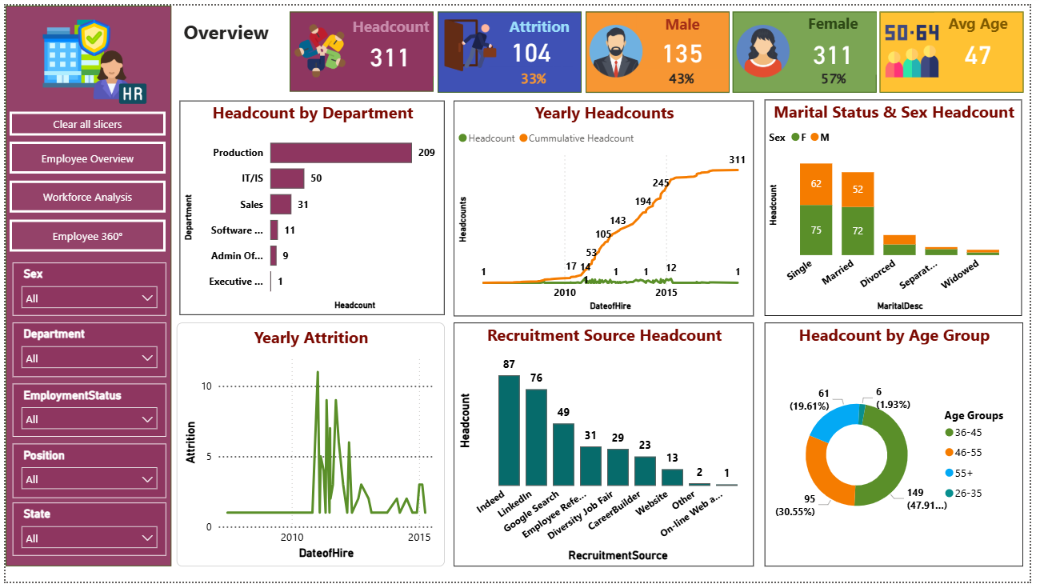

Layout of this report page (visuals, bound fields, positions):
{"tool":"powerbi","page":{"name":"Overview","canvas":[1280,720],"ordinal":1},"visuals":[{"type":"shape","box":[540,7.2,180,101.3],"z":0,"group":"g2"},{"type":"shape","box":[724.8,7.2,180,101.3],"z":0,"group":"g3"},{"type":"shape","box":[908.3,7.2,180,101.3],"z":0,"group":"g4"},{"type":"shape","box":[1093.1,7.2,180,101.3],"z":0,"group":"g5"},{"type":"shape","box":[355.2,7.3,180,100.1],"z":0,"group":"g1"},{"type":"image","box":[40,11.2,97.5,97.5],"z":0,"group":"g6"},{"type":"clusteredBarChart","fields":{"Category":["HR_Employees_Data.Department"],"Y":["All Measures.Headcount"]},"box":[216.9,119.2,331.4,268.2],"z":0},{"type":"card","title":"Female","fields":{"Values":["All Measures.Headcount"]},"box":[979.8,8.4,108.5,77.5],"z":1000,"group":"g4"},{"type":"card","title":"Avg Age","fields":{"Values":["All Measures.Avg Age"]},"box":[1162.2,8.4,108.5,77.5],"z":1000,"group":"g5"},{"type":"card","title":"Male","fields":{"Values":["All Measures.Male"]},"box":[788.3,9.2,114.4,70],"z":1000,"group":"g3"},{"type":"card","title":"Attrition","fields":{"Values":["All Measures.Attrition"]},"box":[603.2,12,106.1,64.4],"z":1000,"group":"g2"},{"type":"card","title":"Headcount","fields":{"Values":["All Measures.Headcount"]},"box":[426.7,12.1,108.5,76.3],"z":1000,"group":"g1"},{"type":"image","box":[103.8,46.2,78.8,86.2],"z":1000,"group":"g6"},{"type":"donutChart","title":"Headcount by Age Group","fields":{"Category":["HR_Employees_Data.AgeBucket"],"Y":["All Measures.Headcount"]},"box":[948.9,395.8,323,305.2],"z":1000},{"type":"image","box":[724.8,11.5,76.3,91.2],"z":2000,"group":"g3"},{"type":"image","box":[908.3,11.5,76.3,91.2],"z":2000,"group":"g4"},{"type":"image","box":[1095.5,11.5,76.3,91.2],"z":2000,"group":"g5"},{"type":"image","box":[355.2,11.6,76.3,90.1],"z":2000,"group":"g1"},{"type":"image","box":[543.3,12.4,74.8,75.1],"z":2000,"group":"g2"},{"type":"lineChart","title":"Yearly Headcounts","fields":{"Y":["All Measures.Headcount","All Measures.Cummulative Headcount"],"Category":["HR_Employees_Data.DateofHire"]},"box":[560.3,119.2,375.5,269.4],"z":2000},{"type":"clusteredColumnChart","title":"Recruitment Source Headcount","fields":{"Category":["HR_Employees_Data.RecruitmentSource"],"Y":["All Measures.Headcount"]},"box":[560.3,395.8,375.5,305.2],"z":3000},{"type":"columnChart","title":"Marital Status & Sex Headcount","fields":{"Y":["All Measures.Headcount"],"Category":["HR_Employees_Data.MaritalDesc"],"Series":["HR_Employees_Data.Sex"]},"box":[948.9,118,321.8,270.6],"z":4000},{"type":"lineChart","title":"Yearly Attrition","fields":{"Y":["All Measures.Attrition"],"Category":["HR_Employees_Data.DateofHire"]},"box":[213.4,395.8,335,305.2],"z":5000},{"type":"shape","box":[0,0,207.4,700.9],"z":6000},{"type":"slicer","fields":{"Values":["HR_Employees_Data.EmploymentStatus"]},"box":[8.3,472,191.9,66.8],"z":7000},{"type":"slicer","fields":{"Values":["HR_Employees_Data.Sex"]},"box":[8.3,320.7,191.9,66.8],"z":8000},{"type":"slicer","fields":{"Values":["HR_Employees_Data.Department"]},"box":[8.3,395.8,191.9,67.9],"z":9000},{"type":"slicer","fields":{"Values":["HR_Employees_Data.Position"]},"box":[8.3,547.1,191.9,67.9],"z":10000},{"type":"slicer","fields":{"Values":["HR_Employees_Data.State"]},"box":[8.3,621,191.9,66.8],"z":11000},{"type":"actionButton","box":[5,170,195,40],"z":12000},{"type":"actionButton","box":[5,218.8,195,40],"z":13000},{"type":"actionButton","box":[5,267.5,195,40],"z":14000},{"type":"textbox","box":[216.9,10.7,131.1,96.6],"z":15000},{"type":"group","id":"g1","title":"Group 1","box":[355.2,7.3,180,100.1],"z":16000},{"type":"group","id":"g2","title":"Group 1","box":[540,7.2,180,101.3],"z":17000},{"type":"group","id":"g3","title":"Group 1","box":[724.8,7.2,180,101.3],"z":18000},{"type":"group","id":"g4","title":"Group 1","box":[908.3,7.2,180,101.3],"z":19000},{"type":"group","id":"g5","title":"Group 1","box":[1093.1,7.2,180,101.3],"z":20000},{"type":"card","title":"Attrition","fields":{"Values":["All Measures.Attrition Rate"]},"box":[627,75.1,64.4,37],"z":21000},{"type":"card","title":"Attrition","fields":{"Values":["All Measures.Male %"]},"box":[813,75.1,64.4,37],"z":22000},{"type":"card","title":"Attrition","fields":{"Values":["All Measures.Female %"]},"box":[1002.5,75.1,64.4,37],"z":23000},{"type":"actionButton","box":[5,132.5,195,30],"z":24000},{"type":"group","id":"g6","title":"Group 2","box":[40,11.2,142.5,121.2],"z":25000}]}

Visuals, with their boxes in screenshot pixels (x1, y1, x2, y2), scaled from the page's 1280x720 canvas onto the 1040x587 screenshot:
shape: x1=439 y1=6 x2=585 y2=88
shape: x1=589 y1=6 x2=735 y2=88
shape: x1=738 y1=6 x2=884 y2=88
shape: x1=888 y1=6 x2=1034 y2=88
shape: x1=289 y1=6 x2=435 y2=88
image: x1=32 y1=9 x2=112 y2=89
clusteredBarChart - HR_Employees_Data.Department x All Measures.Headcount: x1=176 y1=97 x2=445 y2=316
"Female" card: x1=796 y1=7 x2=884 y2=70
"Avg Age" card: x1=944 y1=7 x2=1032 y2=70
"Male" card: x1=640 y1=8 x2=733 y2=65
"Attrition" card: x1=490 y1=10 x2=576 y2=62
"Headcount" card: x1=347 y1=10 x2=435 y2=72
image: x1=84 y1=38 x2=148 y2=108
"Headcount by Age Group" donutChart: x1=771 y1=323 x2=1033 y2=572
image: x1=589 y1=9 x2=651 y2=84
image: x1=738 y1=9 x2=800 y2=84
image: x1=890 y1=9 x2=952 y2=84
image: x1=289 y1=9 x2=351 y2=83
image: x1=441 y1=10 x2=502 y2=71
"Yearly Headcounts" lineChart: x1=455 y1=97 x2=760 y2=317
"Recruitment Source Headcount" clusteredColumnChart: x1=455 y1=323 x2=760 y2=572
"Marital Status & Sex Headcount" columnChart: x1=771 y1=96 x2=1032 y2=317
"Yearly Attrition" lineChart: x1=173 y1=323 x2=446 y2=572
shape: x1=0 y1=0 x2=169 y2=571
slicer - HR_Employees_Data.EmploymentStatus: x1=7 y1=385 x2=163 y2=439
slicer - HR_Employees_Data.Sex: x1=7 y1=261 x2=163 y2=316
slicer - HR_Employees_Data.Department: x1=7 y1=323 x2=163 y2=378
slicer - HR_Employees_Data.Position: x1=7 y1=446 x2=163 y2=501
slicer - HR_Employees_Data.State: x1=7 y1=506 x2=163 y2=561
actionButton: x1=4 y1=139 x2=162 y2=171
actionButton: x1=4 y1=178 x2=162 y2=211
actionButton: x1=4 y1=218 x2=162 y2=251
textbox: x1=176 y1=9 x2=283 y2=87
"Group 1" group: x1=289 y1=6 x2=435 y2=88
"Group 1" group: x1=439 y1=6 x2=585 y2=88
"Group 1" group: x1=589 y1=6 x2=735 y2=88
"Group 1" group: x1=738 y1=6 x2=884 y2=88
"Group 1" group: x1=888 y1=6 x2=1034 y2=88
"Attrition" card: x1=509 y1=61 x2=562 y2=91
"Attrition" card: x1=661 y1=61 x2=713 y2=91
"Attrition" card: x1=815 y1=61 x2=867 y2=91
actionButton: x1=4 y1=108 x2=162 y2=132
"Group 2" group: x1=32 y1=9 x2=148 y2=108
